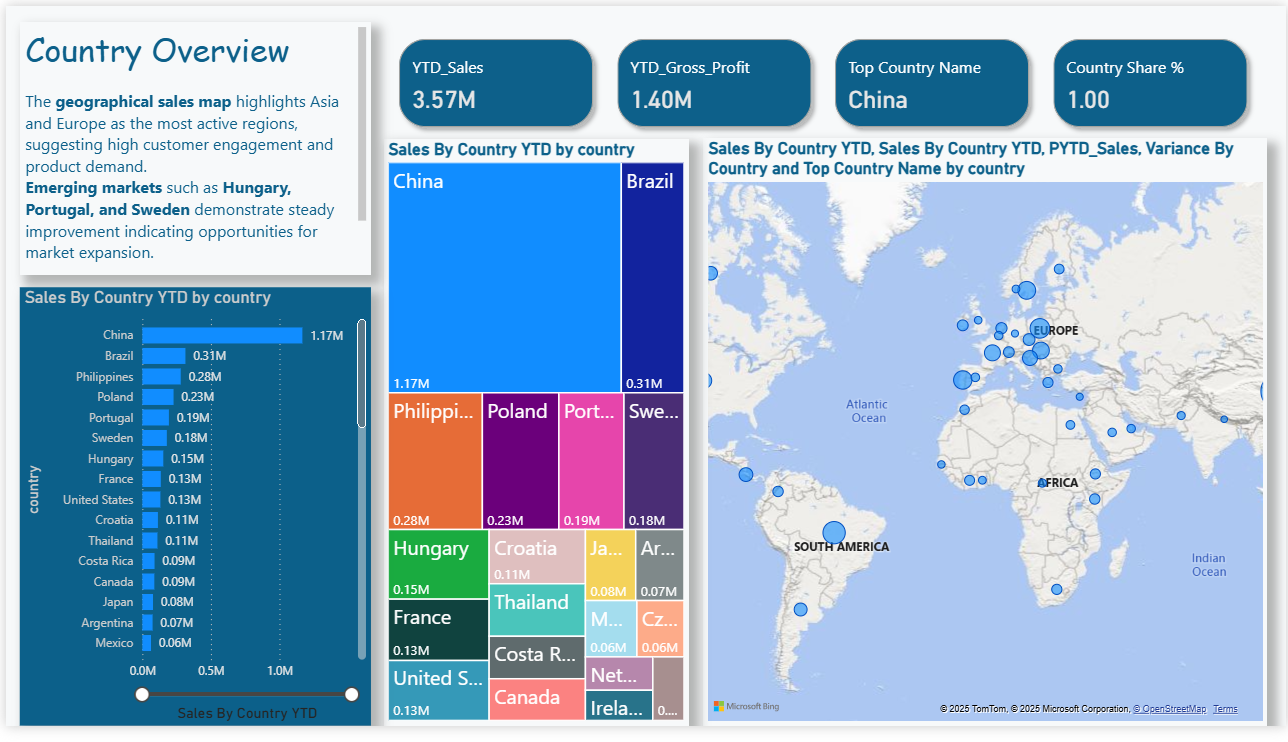

The page's visual inventory and layout, read from the dashboard file:
{"tool":"powerbi","page":{"name":"Country Overview","canvas":[1280,720],"ordinal":3},"visuals":[{"type":"textbox","box":[14.3,15.7,351.4,252.9],"z":0},{"type":"cardVisual","fields":{"Data":["_Measures.YTD_Sales","_Measures.YTD_Gross_Profit","_Measures.Top Country Name","_Measures.Country Share %"]},"box":[376.6,16,885,122.4],"z":1000},{"type":"map","fields":{"Category":["Dim_Accounts.country"],"Size":["_Measures.Sales By Country YTD"]},"box":[697.1,132.9,564.3,587.1],"z":6000},{"type":"treemap","fields":{"Group":["Dim_Accounts.country"],"Values":["_Measures.Sales By Country YTD"]},"box":[377.1,132.9,305.7,587.1],"z":7000},{"type":"clusteredBarChart","fields":{"Category":["Dim_Accounts.country"],"Y":["_Measures.Sales By Country YTD"]},"box":[14.3,281.4,351.4,438.6],"z":8000}]}

Visuals, with their boxes in screenshot pixels (x1, y1, x2, y2), scaled from the page's 1280x720 canvas onto the 1288x742 screenshot:
textbox: [x1=14, y1=16, x2=368, y2=277]
cardVisual - _Measures.YTD_Sales x _Measures.YTD_Gross_Profit: [x1=379, y1=16, x2=1269, y2=143]
map - Dim_Accounts.country x _Measures.Sales By Country YTD: [x1=701, y1=137, x2=1269, y2=741]
treemap - Dim_Accounts.country x _Measures.Sales By Country YTD: [x1=379, y1=137, x2=687, y2=741]
clusteredBarChart - Dim_Accounts.country x _Measures.Sales By Country YTD: [x1=14, y1=290, x2=368, y2=741]
